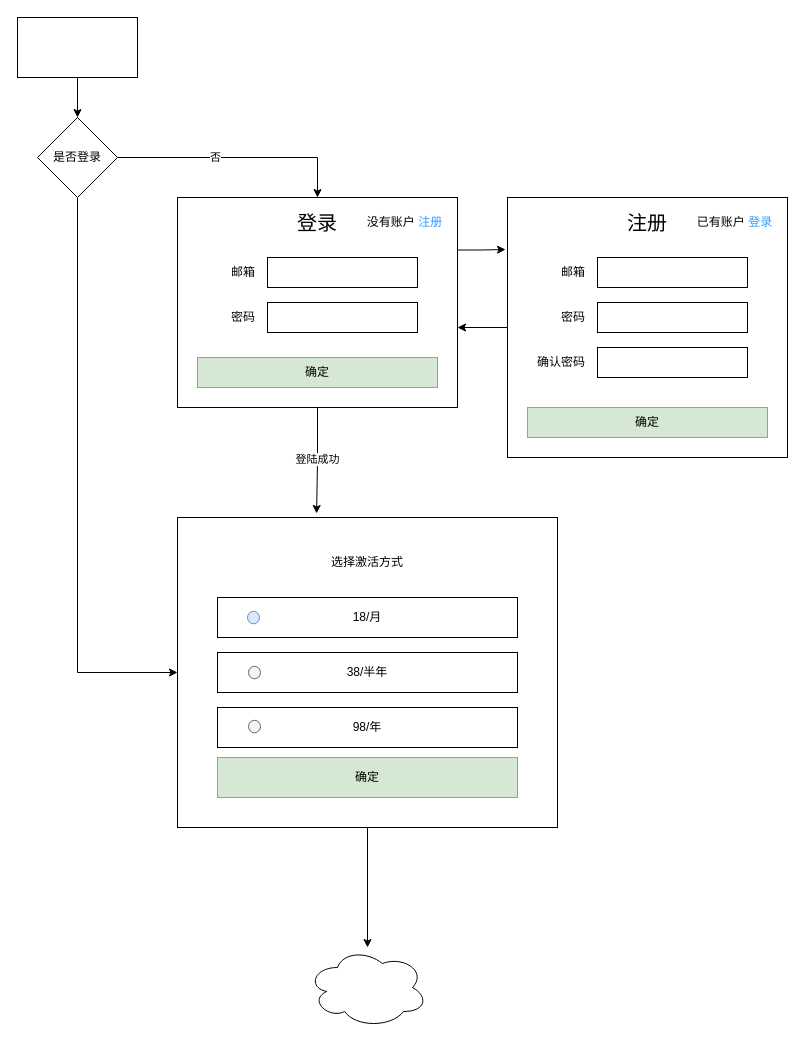
Image size: 805x1045. Some labels were removed from this diagram. Each missing label, with the centre of its shape:
"激活功能" belongs at (x=77, y=47).
"激活成功" belongs at (x=367, y=987).
